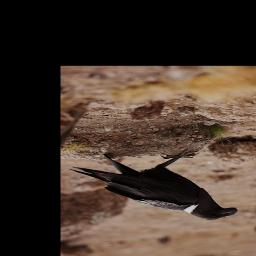Crow: (70, 145, 240, 222)
